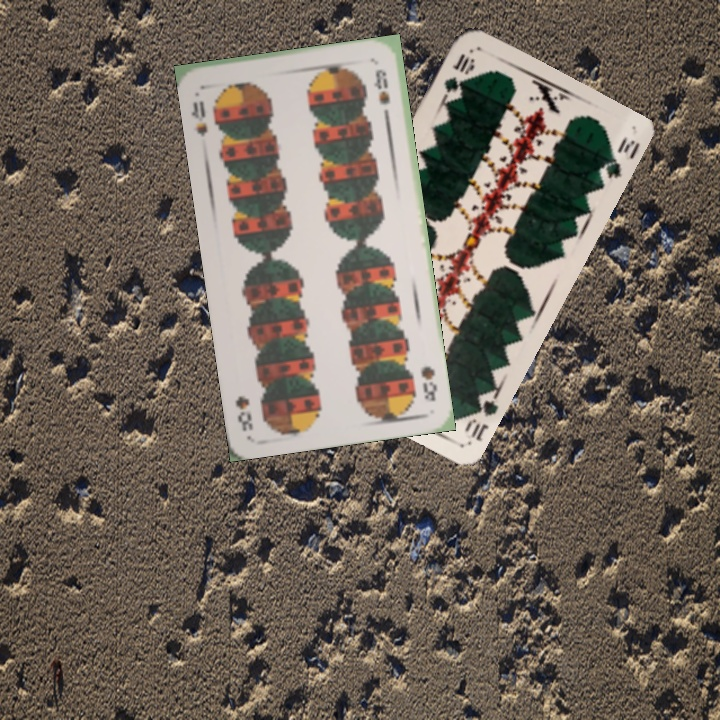G10: (460, 390, 501, 445), (438, 49, 476, 105)
S8: (417, 362, 440, 404), (187, 97, 210, 138)
